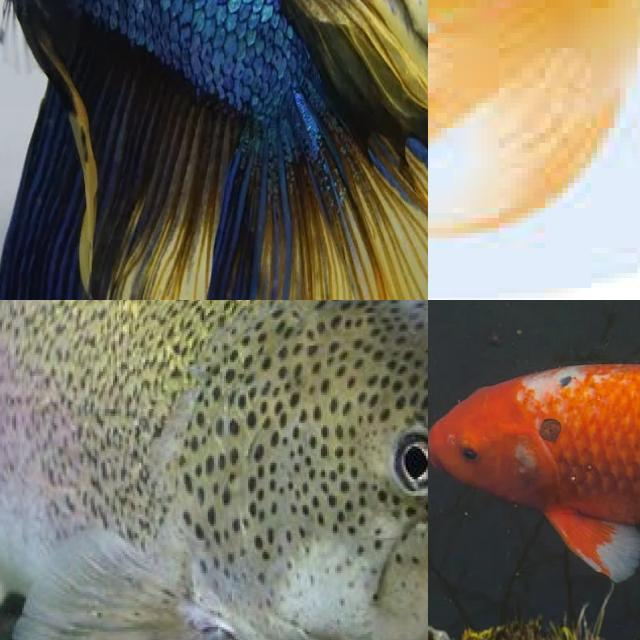fish: (0, 300, 428, 640), (0, 0, 428, 300), (428, 0, 640, 300), (428, 354, 640, 640)
